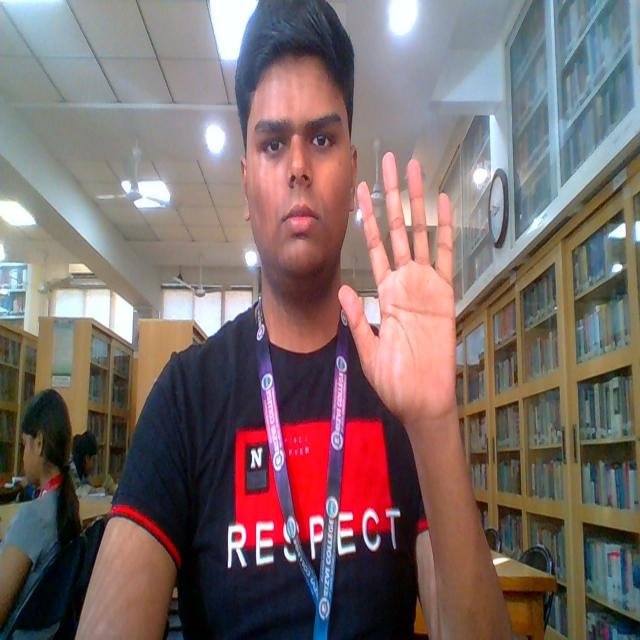Hello: (321, 134, 518, 492)
